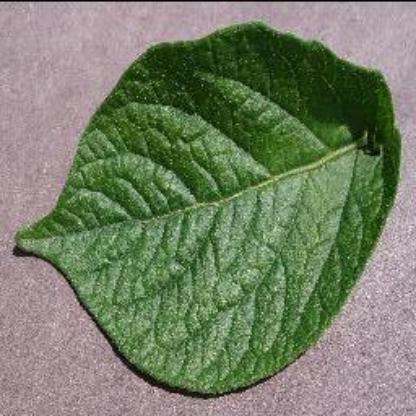Healthy-plant: (14, 19, 402, 397)
